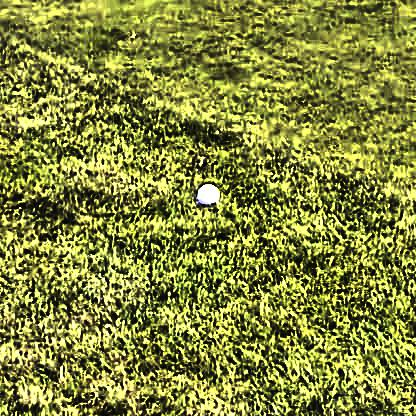golfball: (196, 178, 218, 202)
